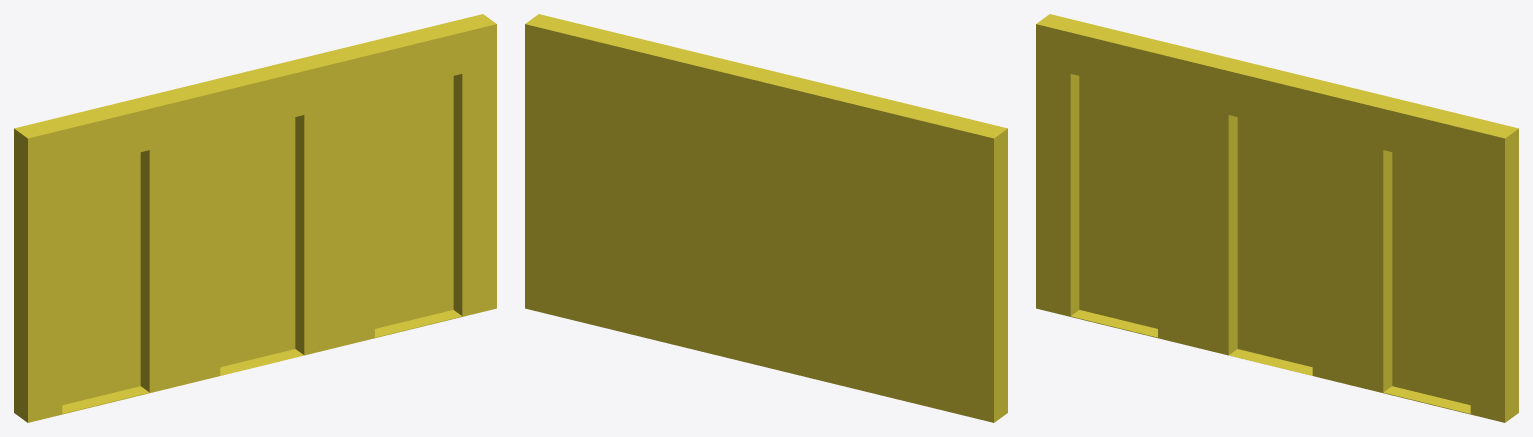
The model's file is ParedeCasaPadrao.fbx.
3 views of the same model, side by side, from view 1: azimuth 30°, elevation 25°; view 2: azimuth 150°, elevation 25°; view 3: azimuth 330°, elevation 25° (orthographic).
Parts seen in each view (by area): view 1: ParedeCasaPadrao; view 2: ParedeCasaPadrao; view 3: ParedeCasaPadrao.
Boxes of the visible parts, bbox=[...] form: ParedeCasaPadrao: bbox=[14, 14, 496, 422]; ParedeCasaPadrao: bbox=[525, 14, 1007, 422]; ParedeCasaPadrao: bbox=[1036, 14, 1518, 422].
Bounding box in the file's own units: 1001 × 580 × 51.
